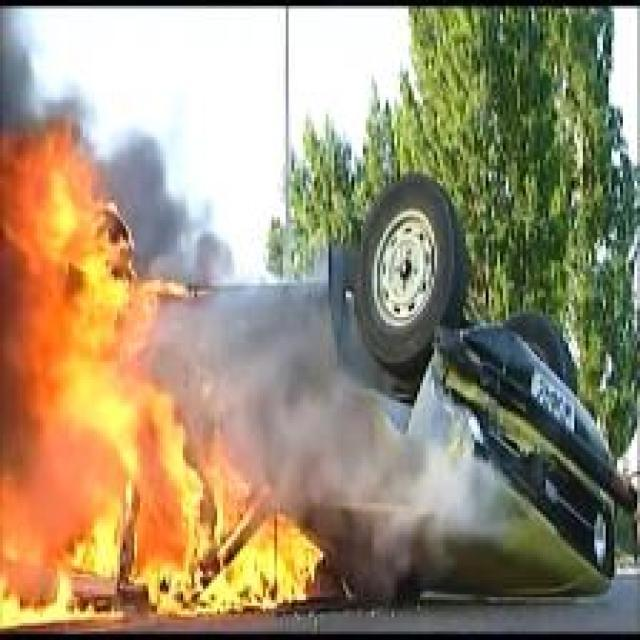Fire: (0, 103, 326, 626)
